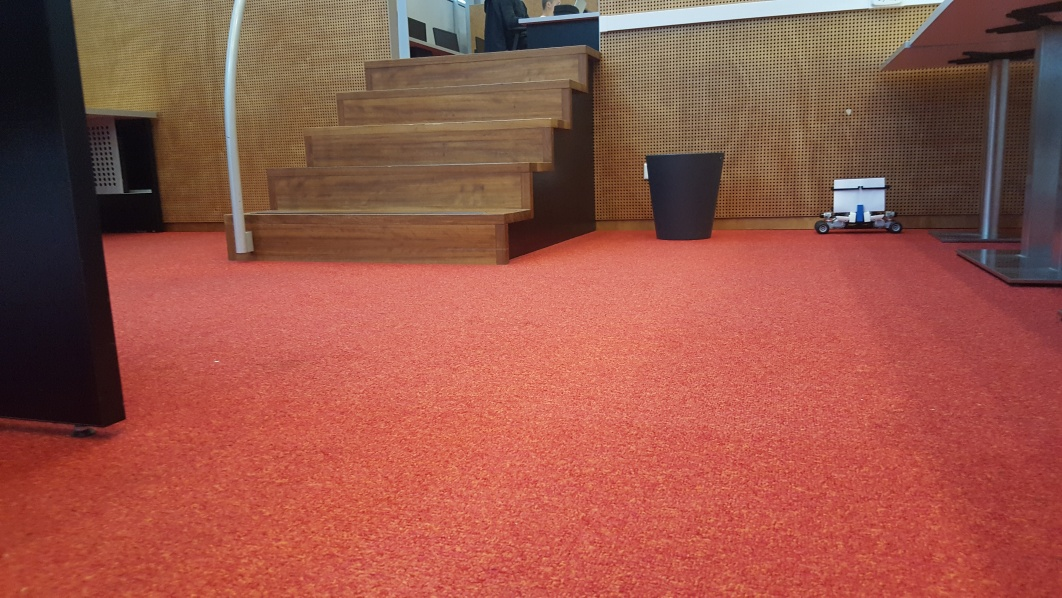car: (818, 176, 905, 235)
